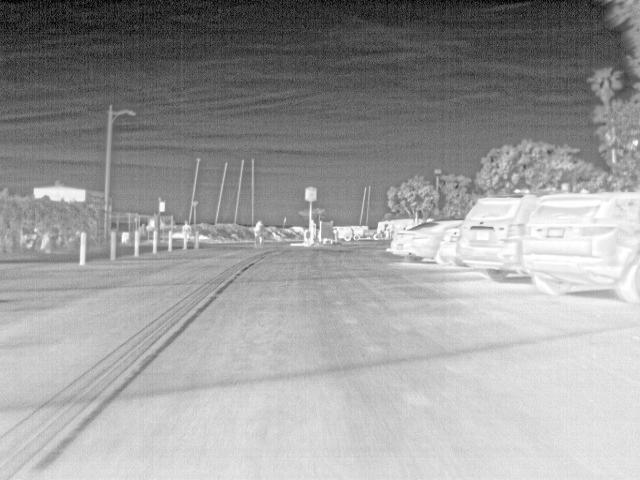car: (522, 190, 639, 306), (459, 194, 523, 283), (390, 222, 435, 264), (436, 221, 459, 268), (337, 226, 354, 240), (353, 225, 368, 240)
person: (180, 220, 191, 250), (252, 218, 262, 234)
